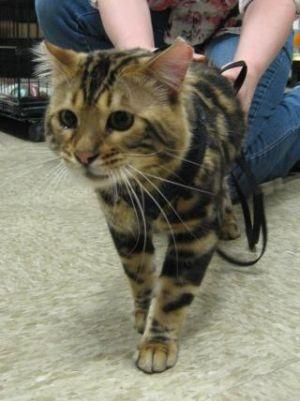bengal: (32, 30, 197, 198)
